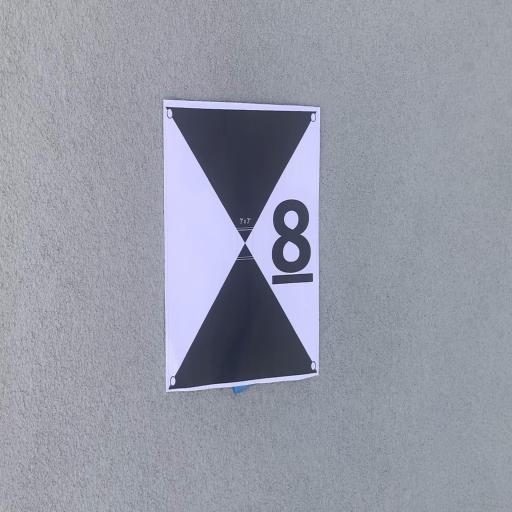target8: (163, 99, 320, 392)
